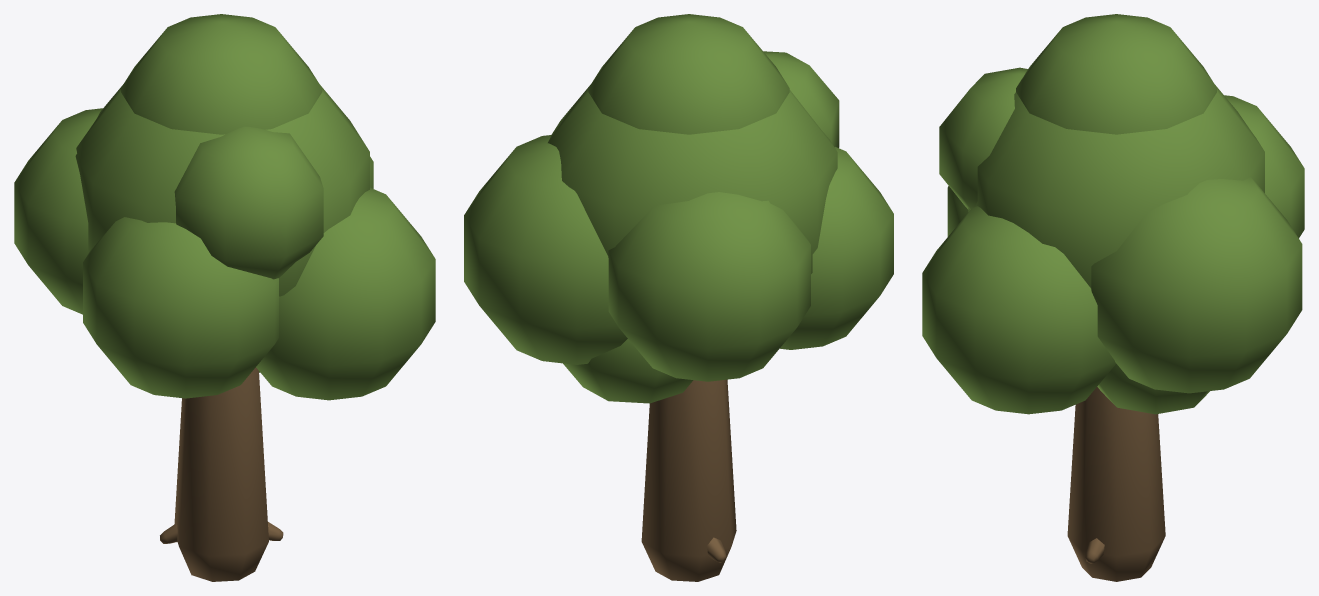
Rendered from prop_oak2_aec0.glb.
3 renders of one model, left to right at view 1: azimuth 30°, elevation 25°; view 2: azimuth 150°, elevation 25°; view 3: azimuth 270°, elevation 25°, orthographic.
Parts seen in each view (by area): view 1: prop_oak2_aec0; view 2: prop_oak2_aec0; view 3: prop_oak2_aec0.
Boxes of the visible parts, box(x1,y1,x2,y2) form: prop_oak2_aec0: box(14, 14, 435, 581); prop_oak2_aec0: box(464, 14, 893, 581); prop_oak2_aec0: box(922, 14, 1304, 581).
Size of the model in its own units: 1.38 by 2.22 by 1.38.
Materials: 1 (1 with a texture image).
